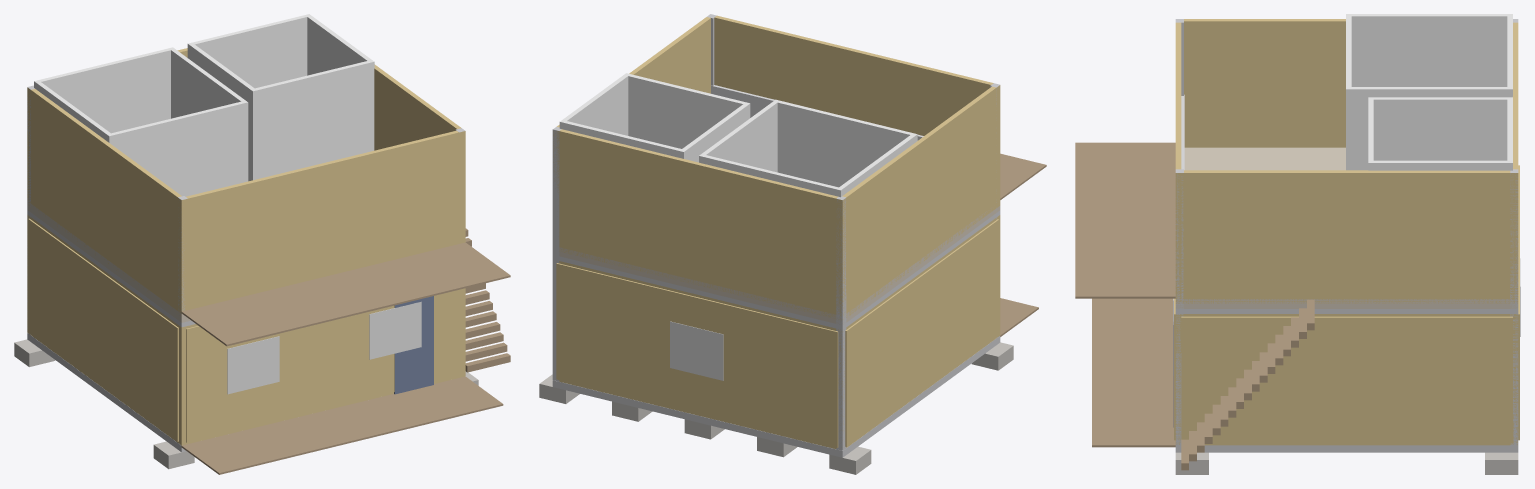
The model's file is Duplex-20-Base-GoldenTan-LOD3.glb.
3 views of the same model, side by side, from view 1: azimuth 30°, elevation 25°; view 2: azimuth 150°, elevation 25°; view 3: azimuth 270°, elevation 25° (orthographic). The views are drawn at different scales.
Visible parts, largest first — view 1: ExteriorShellUpper, ExteriorPanelsStandard, StudyUpper, BedroomUpper, BalconyUpper, BalconyGround, WindowsStandard, StaircaseExternal, ExteriorShell, EntryDoor, FoundationBlocks, FloorUpper (+3 smaller); view 2: ExteriorShellUpper, ExteriorPanelsStandard, BedroomUpper, StudyUpper, FloorUpper, VerticalStructure, FoundationBlocks, BaseFrame, ExteriorShell, WindowsStandard, TopFrame, BalconyUpper (+2 smaller); view 3: ExteriorShellUpper, ExteriorPanelsStandard, BalconyUpper, BedroomUpper, BalconyGround, StudyUpper, FloorUpper, StaircaseExternal, ExteriorShell, VerticalStructure, BaseFrame, TopFrame (+1 smaller).
Boxes of the visible parts, x1,y1,x2,y2 form: ExteriorShellUpper: [27, 48, 465, 315]; ExteriorPanelsStandard: [28, 218, 461, 442]; StudyUpper: [187, 14, 374, 181]; BedroomUpper: [34, 47, 248, 196]; BalconyUpper: [181, 242, 510, 346]; BalconyGround: [181, 376, 503, 474]; WindowsStandard: [227, 301, 421, 394]; StaircaseExternal: [465, 228, 510, 372]; ExteriorShell: [27, 214, 465, 445]; EntryDoor: [394, 296, 433, 394]; FoundationBlocks: [14, 339, 478, 469]; FloorUpper: [27, 201, 190, 322]; ExteriorShellUpper: [553, 15, 1000, 320]; ExteriorPanelsStandard: [556, 219, 999, 447]; BedroomUpper: [699, 99, 917, 197]; StudyUpper: [559, 73, 750, 162]; FloorUpper: [559, 206, 1000, 324]; VerticalStructure: [552, 14, 999, 450]; FoundationBlocks: [539, 342, 1013, 474]; BaseFrame: [552, 336, 1000, 457]; ExteriorShell: [559, 215, 1000, 448]; WindowsStandard: [670, 321, 723, 380]; TopFrame: [559, 210, 1000, 329]; BalconyUpper: [1000, 153, 1046, 199]; ExteriorShellUpper: [1175, 19, 1518, 303]; ExteriorPanelsStandard: [1174, 165, 1519, 443]; BalconyUpper: [1075, 142, 1175, 298]; BedroomUpper: [1346, 14, 1512, 170]; BalconyGround: [1092, 298, 1175, 447]; StudyUpper: [1368, 97, 1512, 170]; FloorUpper: [1176, 147, 1518, 308]; StaircaseExternal: [1181, 299, 1314, 470]; ExteriorShell: [1175, 314, 1518, 445]; VerticalStructure: [1175, 19, 1518, 445]; BaseFrame: [1175, 445, 1518, 452]; TopFrame: [1175, 309, 1518, 313].
Size of the model in its own units: 7.94 by 6 by 8.
